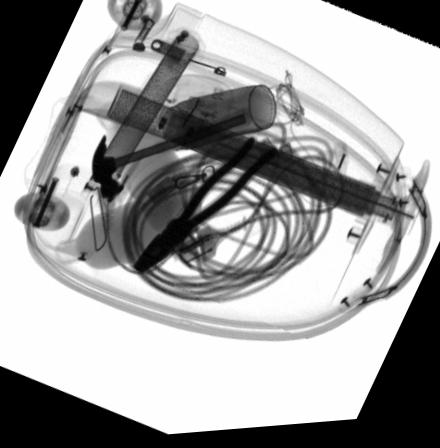Hammer: (90, 110, 250, 200)
Pliers: (131, 139, 277, 276)
